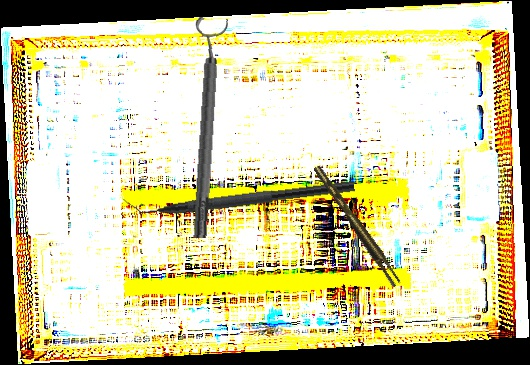Chopper: (122, 164, 355, 224)
Fixation Ring: (180, 17, 232, 239)
Tissue Forceps: (313, 160, 402, 291)
